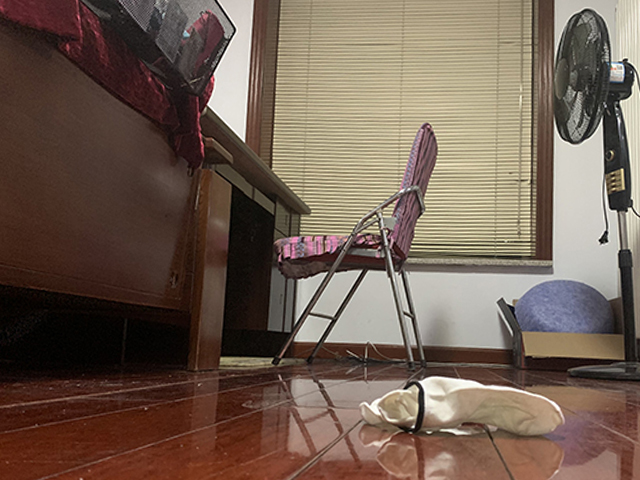bed: (1, 1, 236, 373)
carpet: (218, 354, 308, 371)
socks: (357, 374, 567, 439)
stool: (271, 120, 439, 372)
table: (202, 105, 313, 360)
